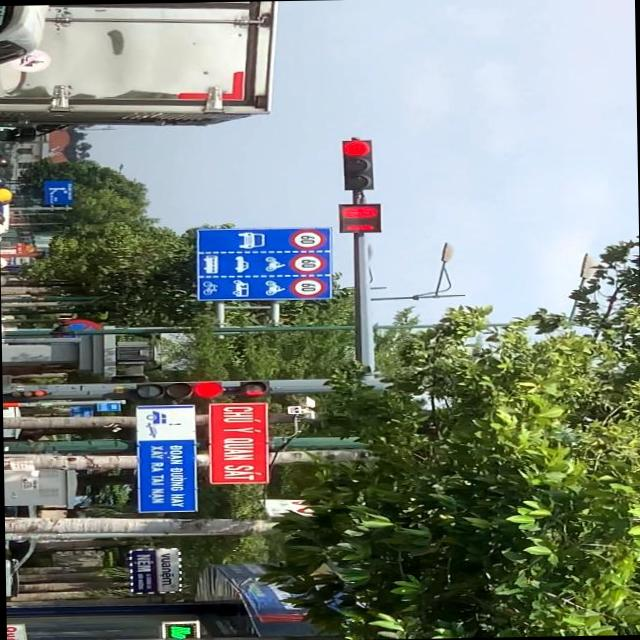P-127c: (196, 229, 333, 303)
